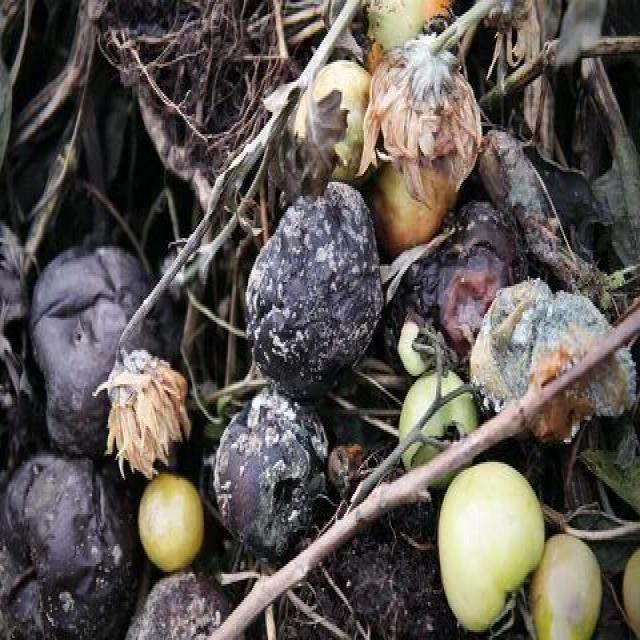Rotten: (30, 226, 192, 456), (244, 188, 380, 398), (210, 402, 338, 542)
